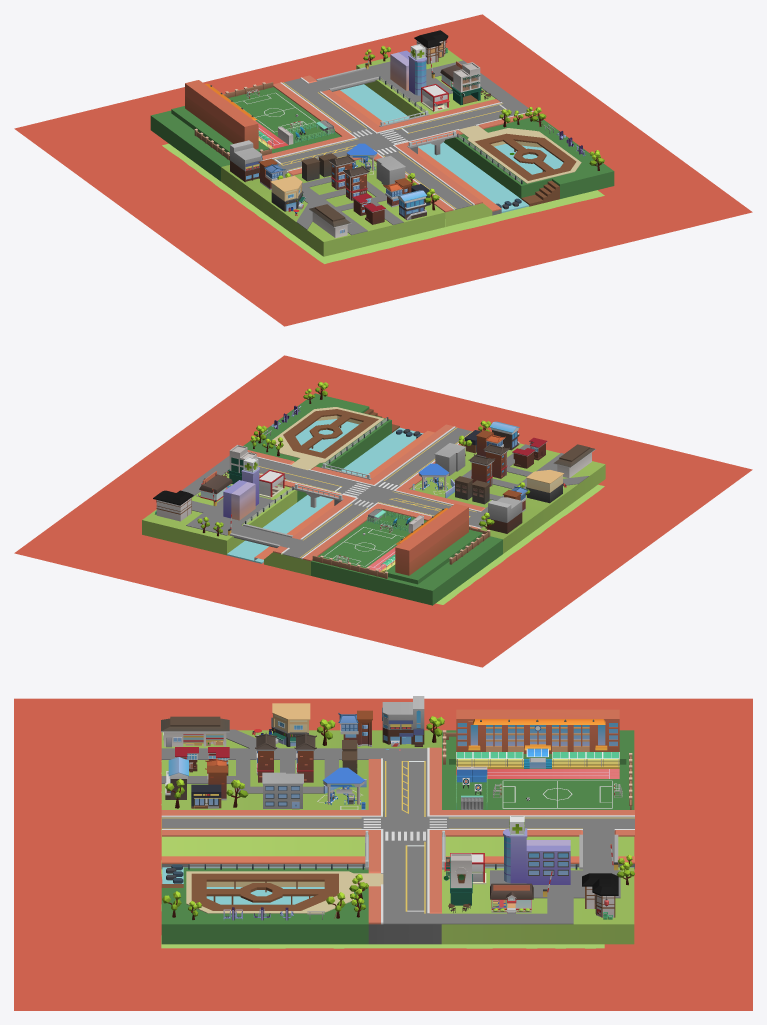
Rendered from Bangkickchi_Map_v4.fbx.
3 renders of one model, top to bottom at view 1: azimuth 30°, elevation 25°; view 2: azimuth 150°, elevation 25°; view 3: azimuth 270°, elevation 25°, orthographic. The views are drawn at different scales.
Parts seen in each view (by area): view 1: MainBoad_100m100m, Ground_Top, Road_03, Ground_Bottom, Water_01, School_Main, Ground_WoodRoad, Road_02, Building_Hospital, Road_01, ParkSideWalk, SideWalk_03 (+18 smaller); view 2: MainBoad_100m100m, Ground_Top, Road_03, Ground_Bottom, Water_01, School_Main, Ground_WoodRoad, Building_Hospital, Road_01, Ground_Top.001, ParkSideWalk, Building_Commercial_01 (+20 smaller); view 3: MainBoad_100m100m, Ground_Bottom, Road_03, Ground_Top, School_Main, Ground_Middle_Right, Ground_WoodRoad, Building_Hospital, Road_02, Road_01, SideWalk_05, School_Stair (+28 smaller).
Part boxes in pixels (x1,y1,x2,y2): MainBoad_100m100m: (14, 14, 752, 326); Ground_Top: (150, 87, 445, 256); Road_03: (273, 67, 531, 209); Ground_Bottom: (356, 48, 614, 198); Water_01: (340, 84, 529, 212); School_Main: (185, 80, 258, 149); Ground_WoodRoad: (474, 133, 576, 180); Road_02: (282, 171, 403, 235); Building_Hospital: (390, 44, 426, 95); Road_01: (368, 60, 510, 102); ParkSideWalk: (459, 125, 581, 183); SideWalk_03: (262, 82, 354, 159); MainBoad_100m100m: (14, 355, 752, 667); Ground_Top: (311, 443, 605, 605); Road_03: (213, 427, 487, 558); Ground_Bottom: (142, 393, 391, 555); Water_01: (227, 427, 423, 563); School_Main: (395, 503, 468, 575); Ground_WoodRoad: (283, 409, 378, 458); Building_Hospital: (223, 457, 259, 520); Road_01: (181, 468, 273, 535); Ground_Top.001: (384, 529, 482, 584); ParkSideWalk: (272, 407, 383, 470); Building_Commercial_01: (485, 497, 522, 533); MainBoad_100m100m: (14, 698, 752, 1010); Ground_Bottom: (161, 867, 634, 944); Road_03: (162, 748, 634, 924); Ground_Top: (161, 730, 634, 816); School_Main: (456, 709, 619, 753); Ground_Middle_Right: (161, 818, 364, 856); Ground_WoodRoad: (191, 873, 338, 910); Building_Hospital: (503, 815, 570, 884); Road_02: (161, 729, 383, 793); Road_01: (441, 870, 620, 924); SideWalk_05: (161, 856, 634, 869); School_Stair: (456, 748, 619, 768).
Bounding box in the file's own units: 10000 × 1369 × 10000.
